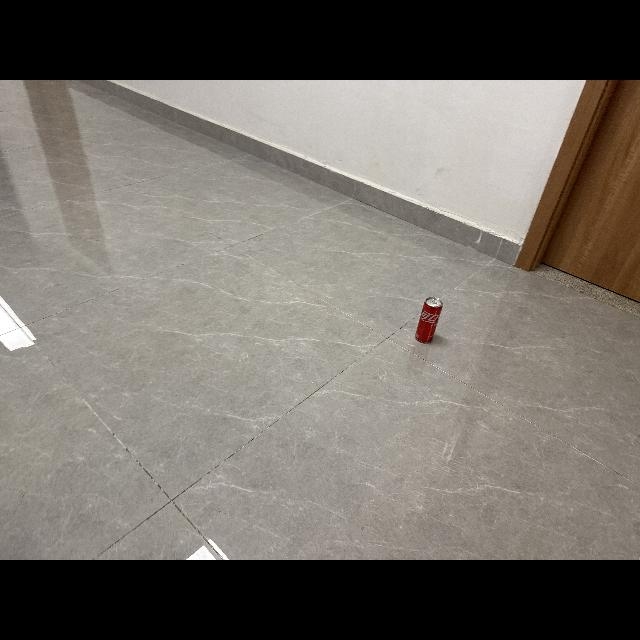Cola: (410, 294, 448, 346)
